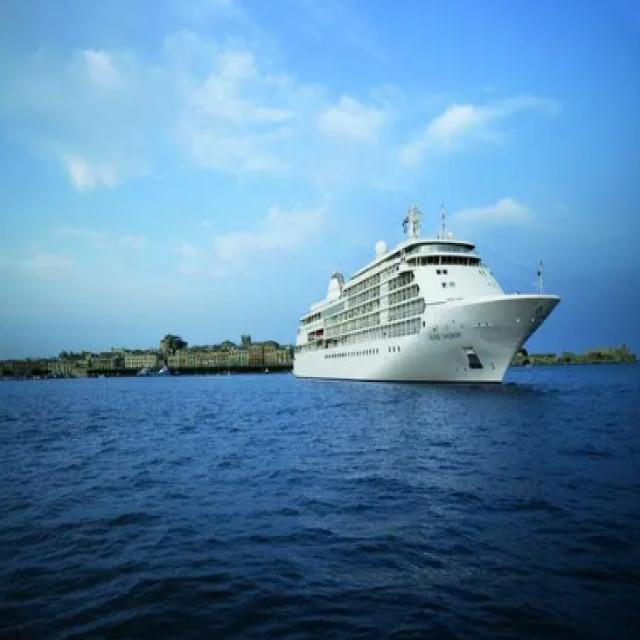passenger ship: (295, 200, 558, 390)
